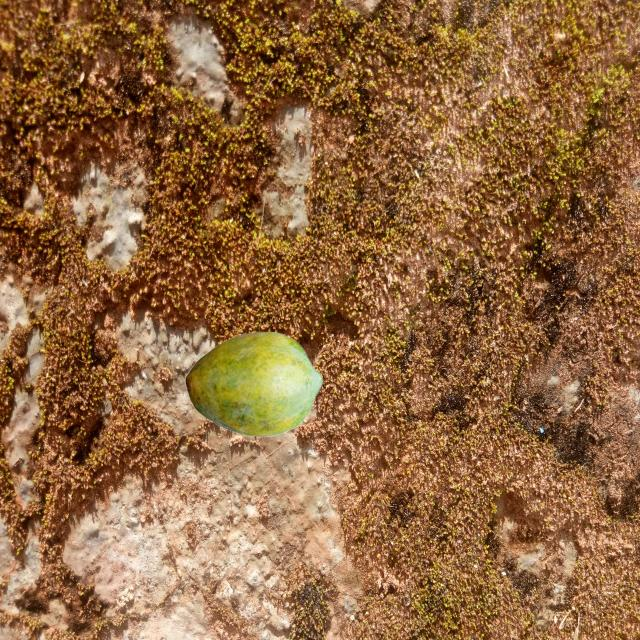Pepaya rippen: (172, 320, 333, 453)
